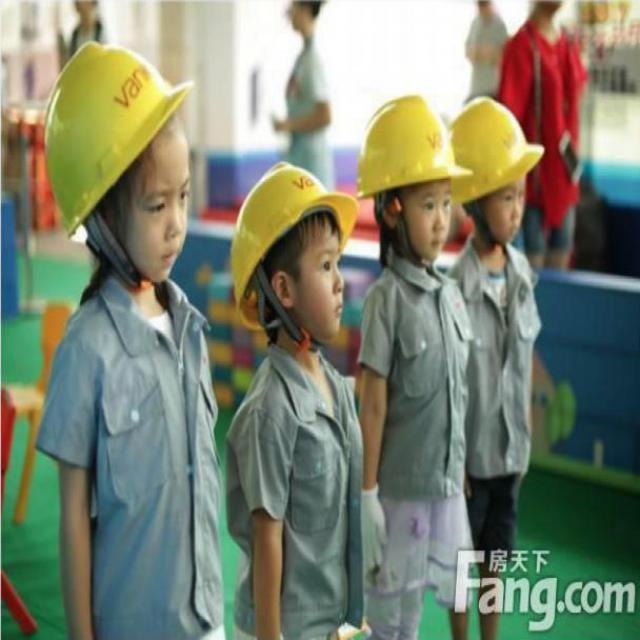helmet: (31, 21, 201, 292), (234, 116, 352, 366), (361, 83, 458, 272), (455, 53, 538, 267)
